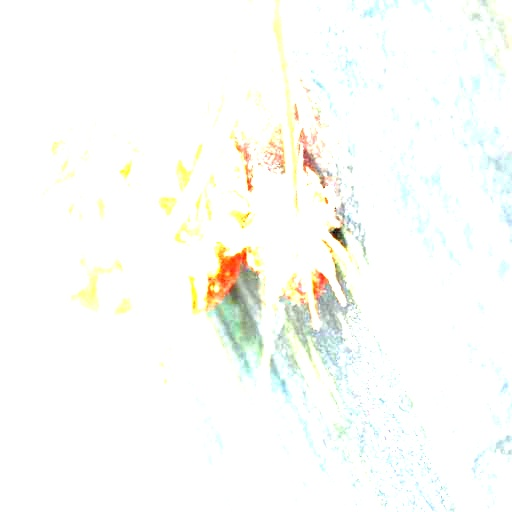Gray Mold: (221, 145, 353, 327)
